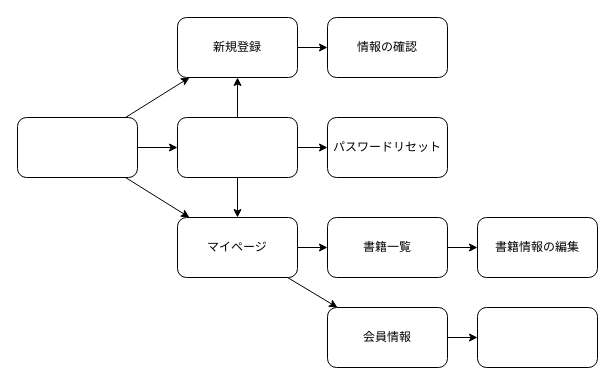
Image size: 615x385. Some labels were removed from this diagram. The centre of each missing label's shape, as x and y in pixels:
トップ: point (77, 147)
ログイン: point (237, 147)
会員情報の編集: point (537, 337)
